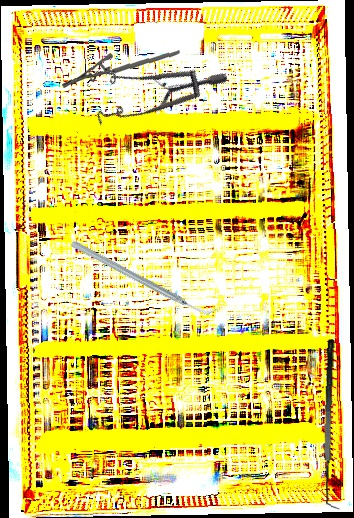Chopper: (68, 197, 220, 359)
Needle Holder: (60, 43, 181, 96)
Spatula Surgical: (317, 339, 349, 510)
Speculum: (69, 7, 231, 158)
